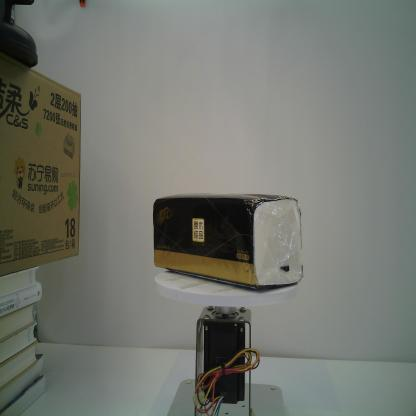Tissue: (152, 193, 303, 287)
